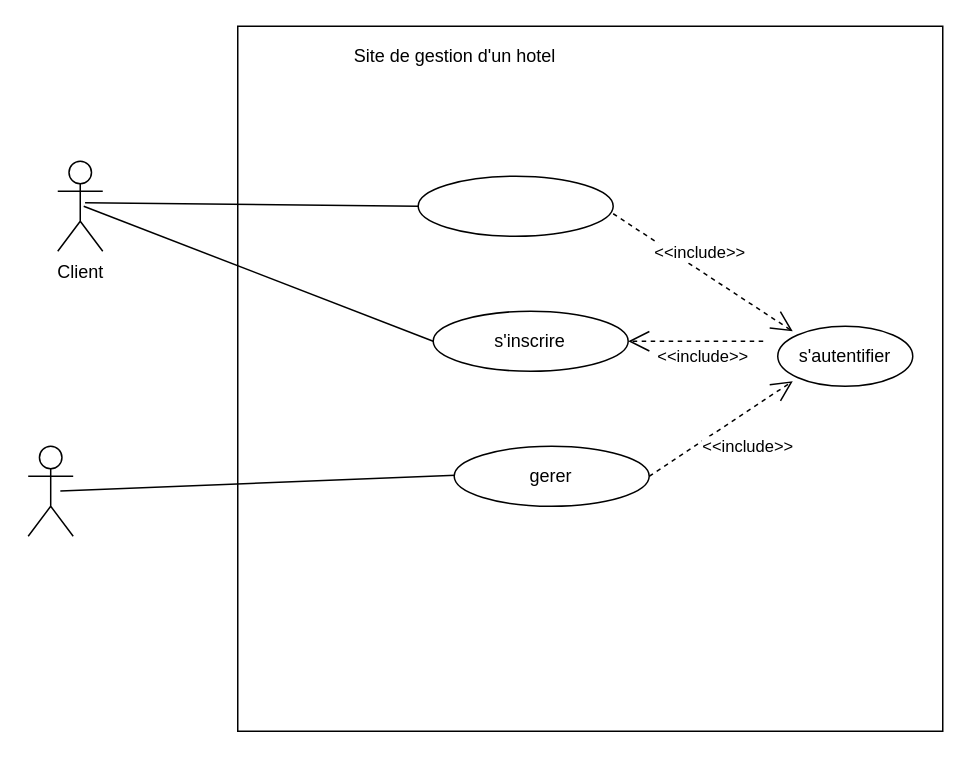
This 969x758 diagram has some shape labels left out. Each missing label, with the centre of its shape:
admin: [50,490]
reserver: [515,205]
